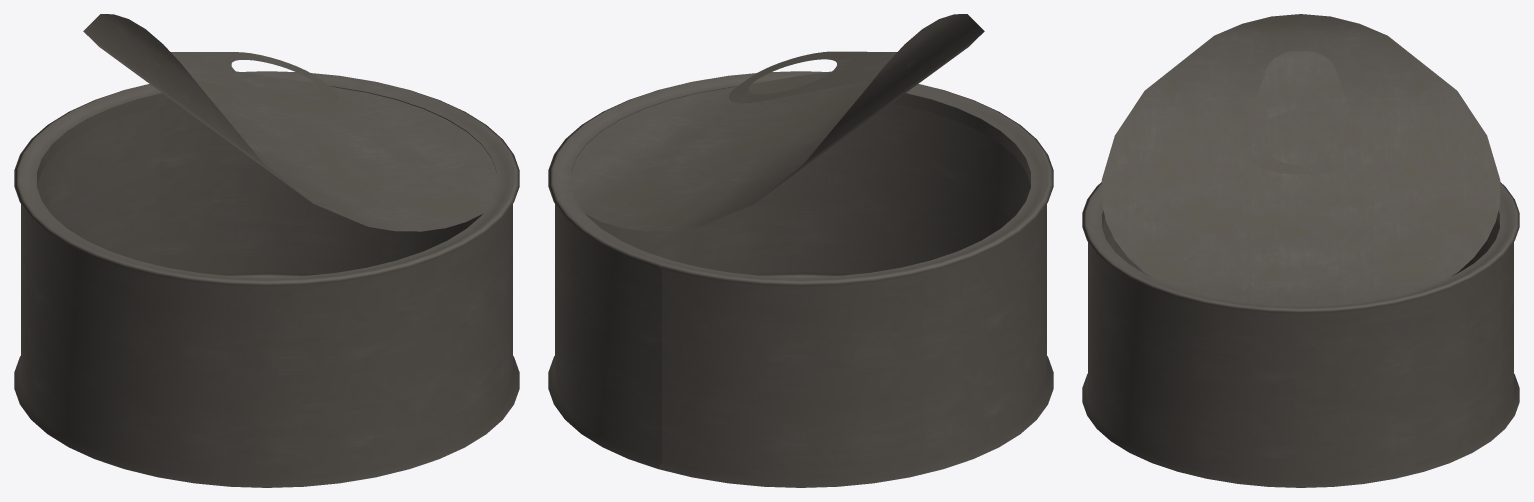
Rendered from Can1.fbx.
3 views of the same model, side by side, from view 1: azimuth 30°, elevation 25°; view 2: azimuth 150°, elevation 25°; view 3: azimuth 270°, elevation 25° (orthographic). The views are drawn at different scales.
Parts seen in each view (by area): view 1: Can; view 2: Can; view 3: Can.
Part boxes in pixels (left/top/right/bottom): Can: left=14, top=14, right=519, bottom=487; Can: left=548, top=14, right=1053, bottom=487; Can: left=1082, top=14, right=1519, bottom=487.
Size of the model in its own units: 955 by 798 by 953.
